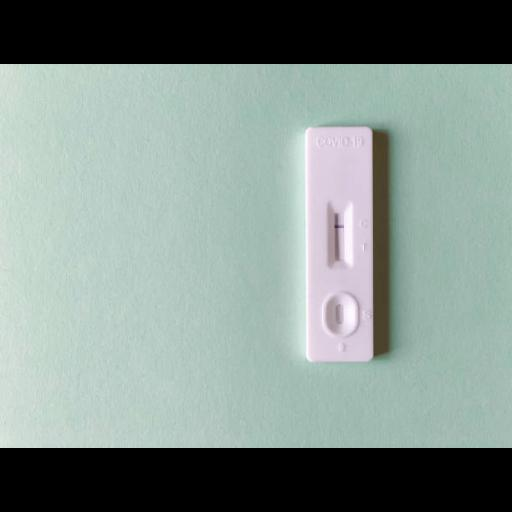Neg: (306, 128, 372, 360)
